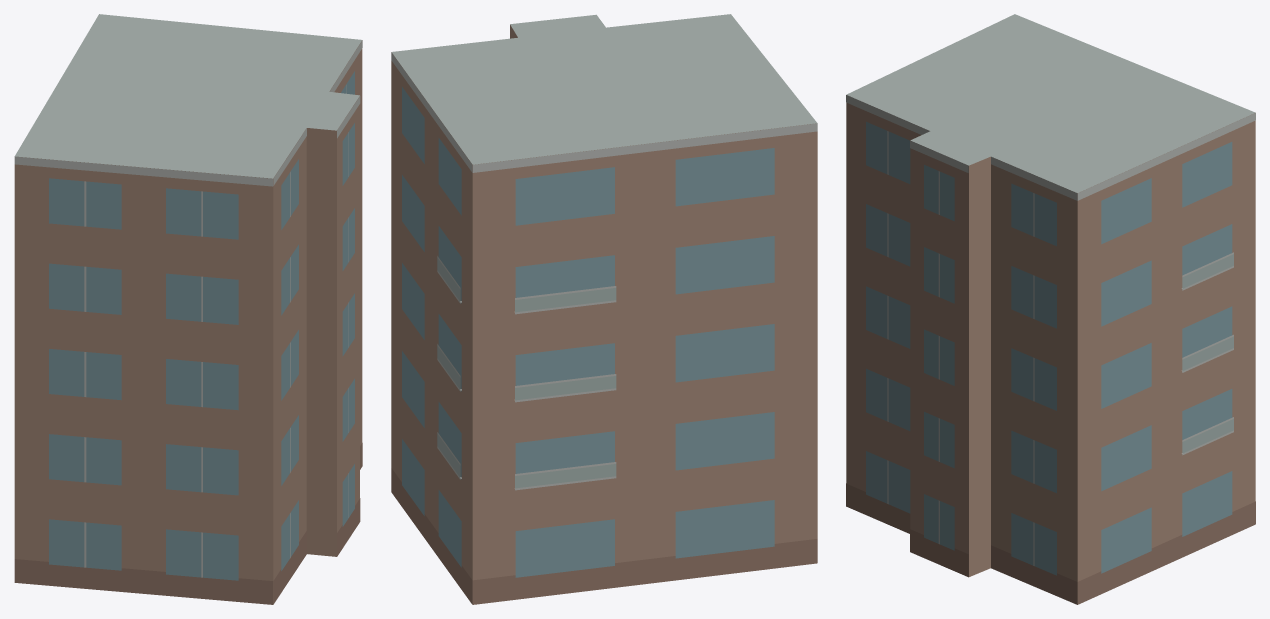
Rendered from survey-upis-32784826.glb.
3 renders of one model, left to right at view 1: azimuth 30°, elevation 25°; view 2: azimuth 150°, elevation 25°; view 3: azimuth 270°, elevation 25°, orthographic. The views are drawn at different scales.
Visible parts, largest first — view 1: survey-upis-32784826.tmp; view 2: survey-upis-32784826.tmp; view 3: survey-upis-32784826.tmp.
Boxes of the visible parts, x1,y1,x2,y2 form: survey-upis-32784826.tmp: (14,14,362,604); survey-upis-32784826.tmp: (391,14,817,604); survey-upis-32784826.tmp: (846,14,1255,604).
Size of the model in its own units: 12.14 by 13 by 11.73.
